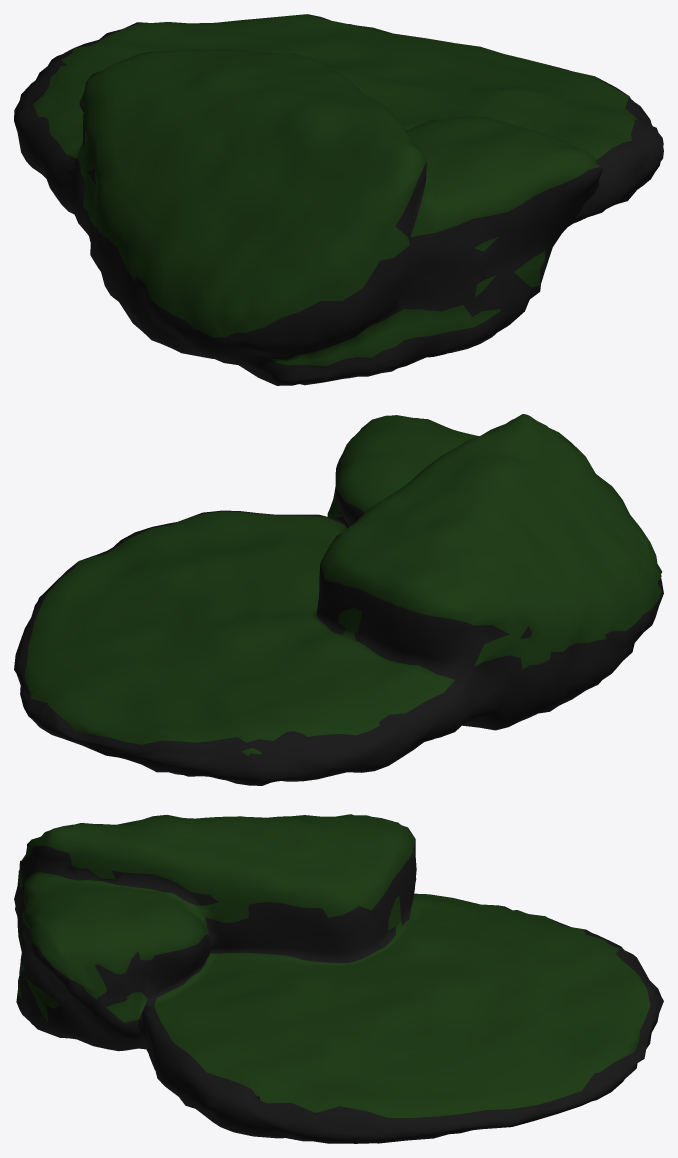
The model's file is startArea.fbx.
3 renders of one model, top to bottom at view 1: azimuth 30°, elevation 25°; view 2: azimuth 150°, elevation 25°; view 3: azimuth 270°, elevation 25°, orthographic. The views are drawn at different scales.
Parts seen in each view (by area): view 1: Retopo_rock.001; view 2: Retopo_rock.001; view 3: Retopo_rock.001.
Part boxes in pixels (x1=…): Retopo_rock.001: x1=14, y1=14, x2=663, y2=385; Retopo_rock.001: x1=14, y1=414, x2=663, y2=785; Retopo_rock.001: x1=14, y1=814, x2=663, y2=1143.
Size of the model in its own units: 937 by 359 by 1073.
